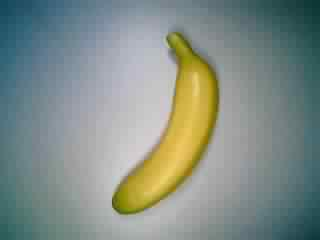banana: (105, 30, 222, 219)
